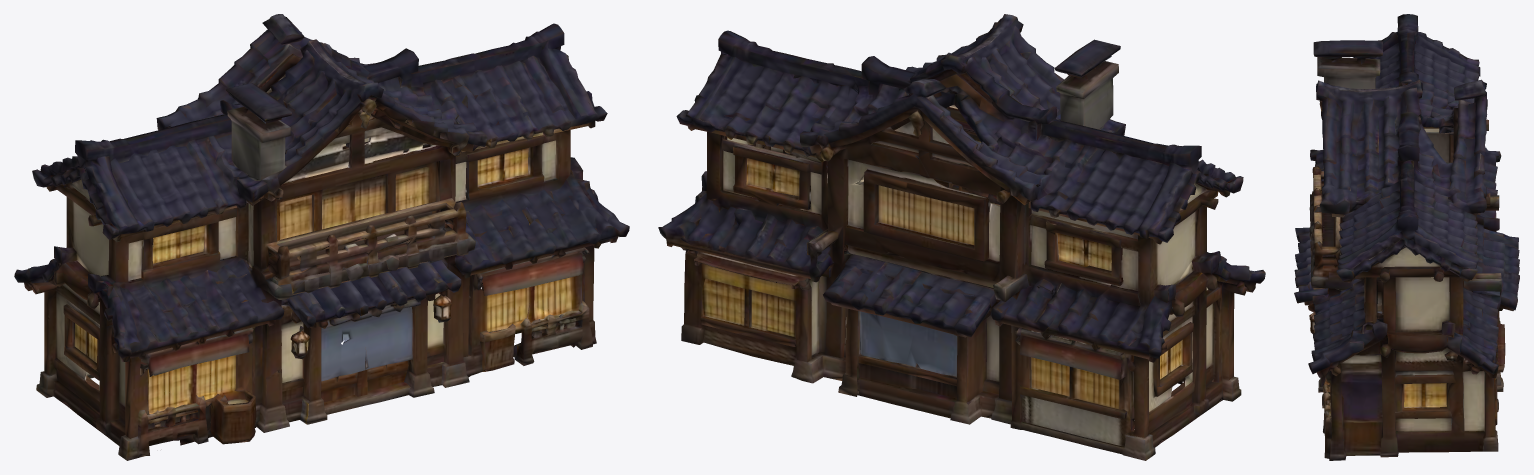
3 renders of one model, left to right at view 1: azimuth 30°, elevation 25°; view 2: azimuth 150°, elevation 25°; view 3: azimuth 270°, elevation 25°, orthographic. The views are drawn at different scales.
Parts seen in each view (by area): view 1: compact__finance_2__native_mobile; view 2: compact__finance_2__native_mobile; view 3: compact__finance_2__native_mobile.
Part boxes in pixels (<box>): compact__finance_2__native_mobile: <box>14,14,629,460</box>; compact__finance_2__native_mobile: <box>658,14,1265,460</box>; compact__finance_2__native_mobile: <box>1294,14,1519,460</box>.
Bounding box in the file's own units: 1 × 0.6121 × 0.4401.
Materials: 1 (1 with a texture image).
